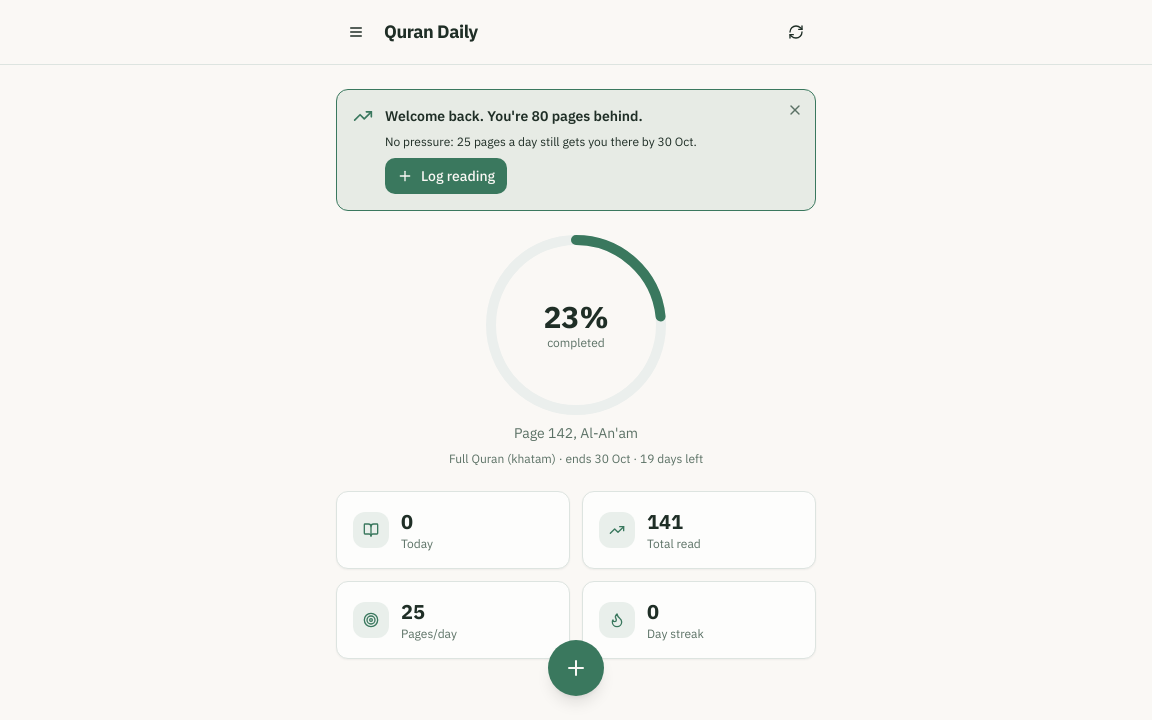
it: Home › shows a calm catch-up card when behind, dismissable for the day
The image size is (1152, 720).
Expected: the text "Welcome back. You're 80 pages behind." is shown, [385,106,643,126]
Expected: the text "No pressure: 25 pages a day still gets you there by 30 Oct." is shown, [385,134,697,150]
Click the button named "Dismiss for today" at (795, 110), box [779,94,811,126]
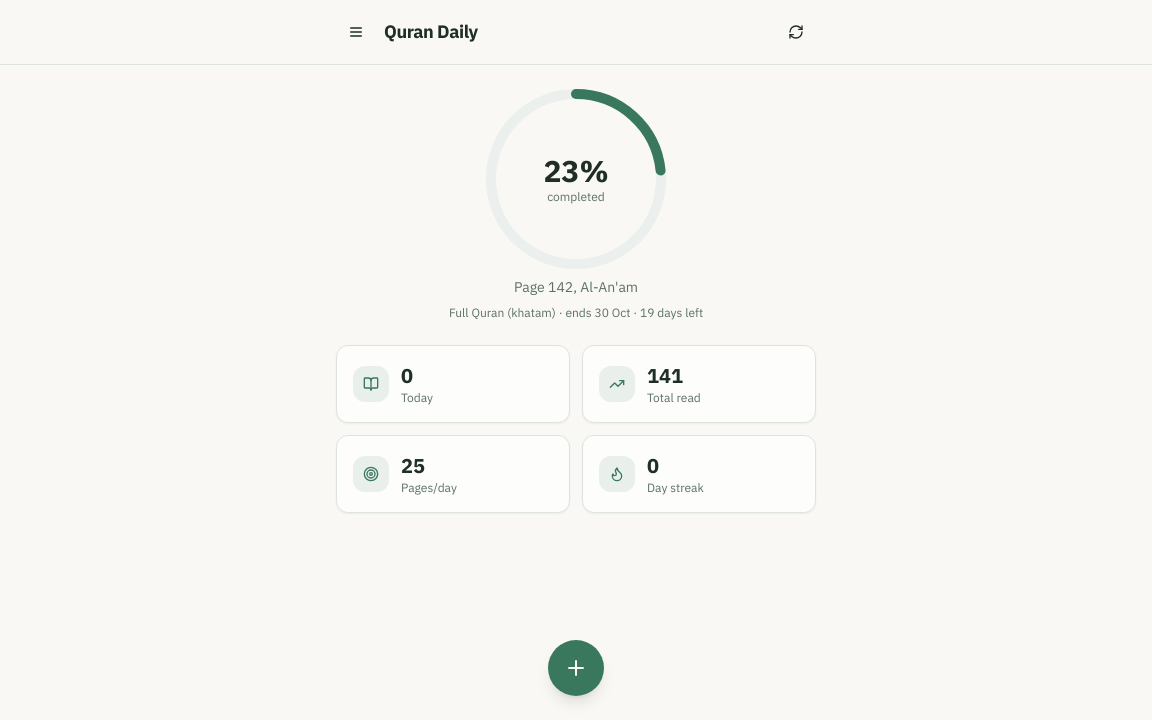
Expected: the text "pages behind" is gone
